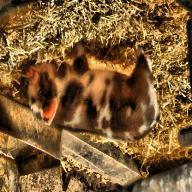boar: (25, 39, 162, 144)
